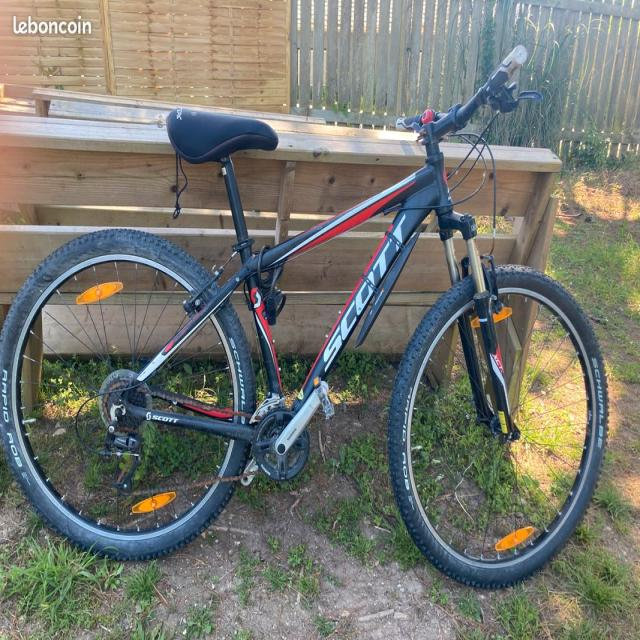Bike: (0, 46, 607, 586)
